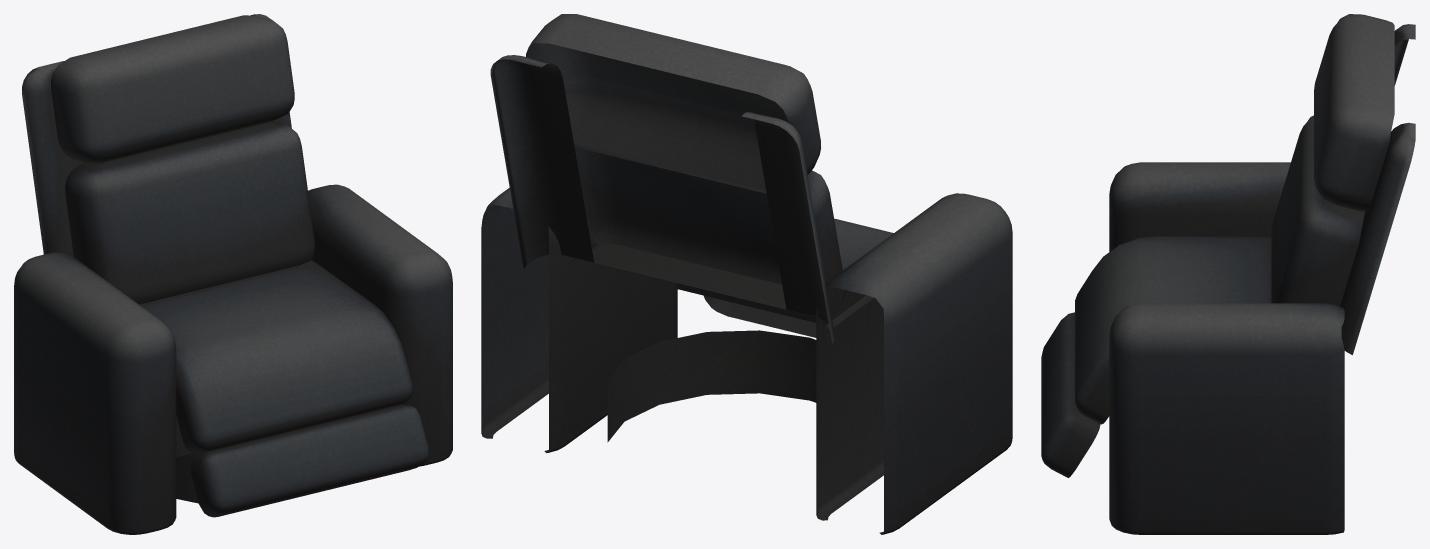
File: item.glb
3 views of the same model, side by side, from view 1: azimuth 30°, elevation 25°; view 2: azimuth 150°, elevation 25°; view 3: azimuth 270°, elevation 25° (orthographic). The views are drawn at different scales.
Visible parts, largest first — view 1: chair; view 2: chair; view 3: chair.
Part boxes in pixels (x1,y1,x2,y2): chair: [14, 14, 452, 534]; chair: [481, 14, 1012, 534]; chair: [1041, 14, 1415, 534].
Bounding box in the file's own units: 1.3 × 1.37 × 1.18.
Materials: 1 (1 with a texture image).
